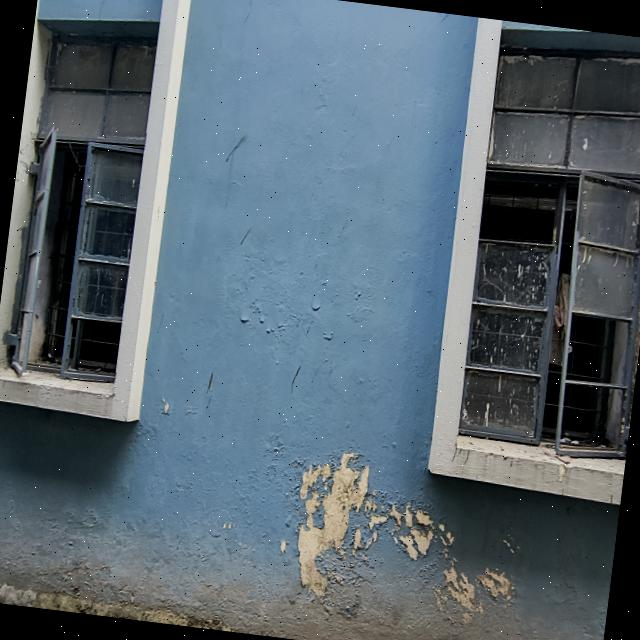peeling: (221, 428, 514, 624)
